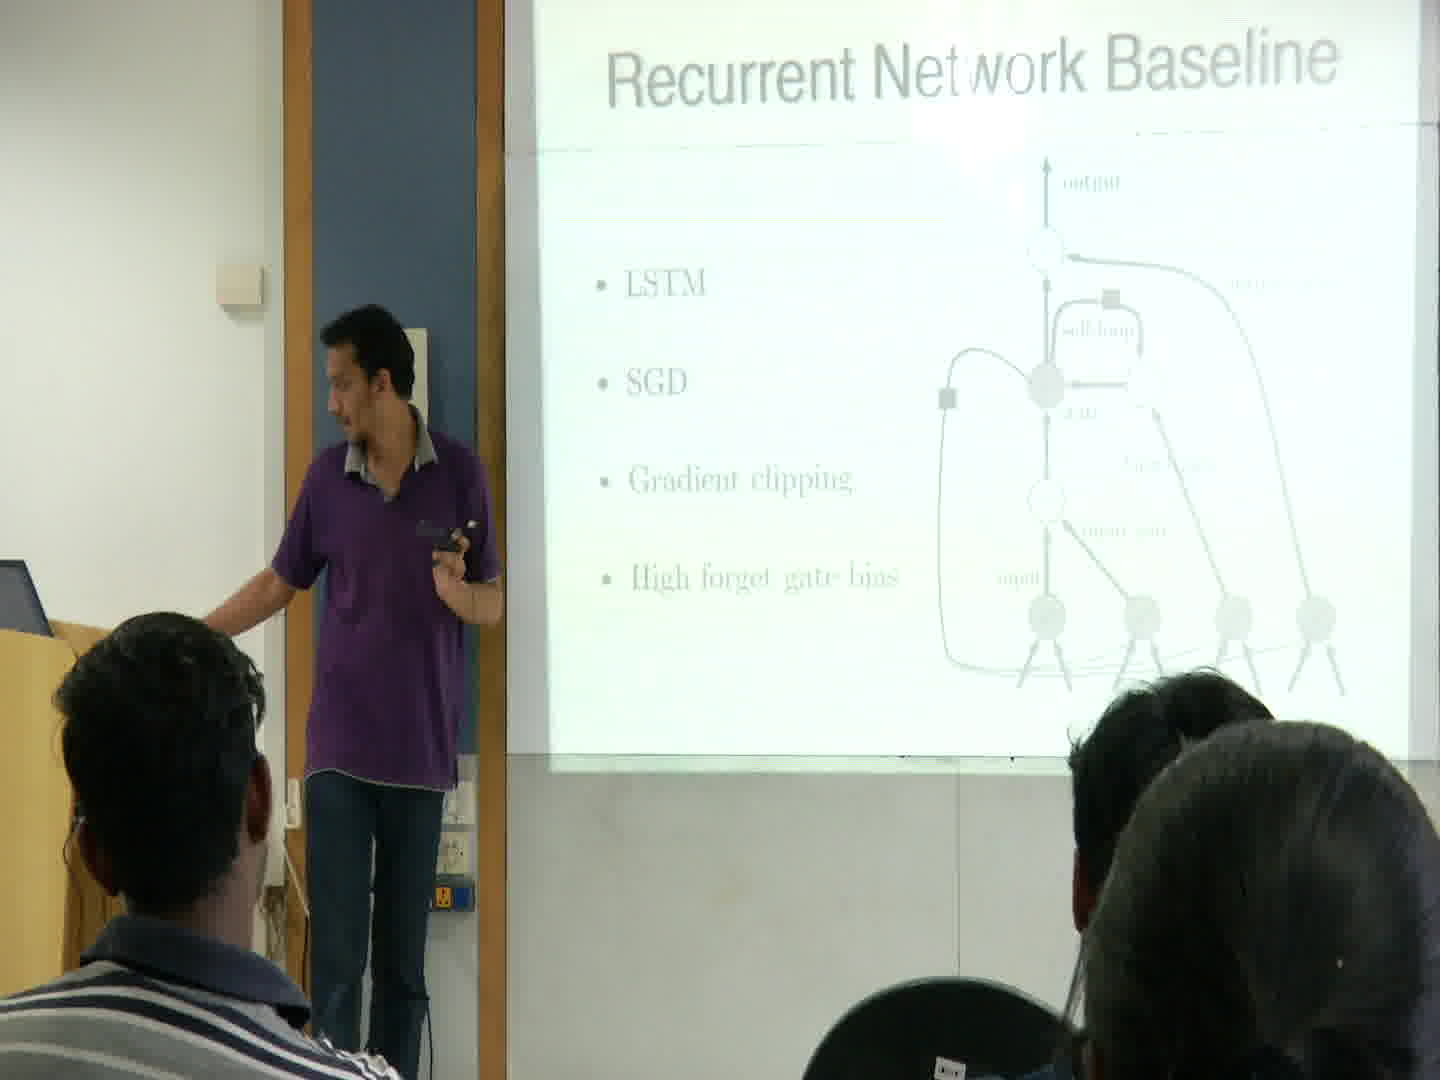slide: (536, 5, 1412, 775)
